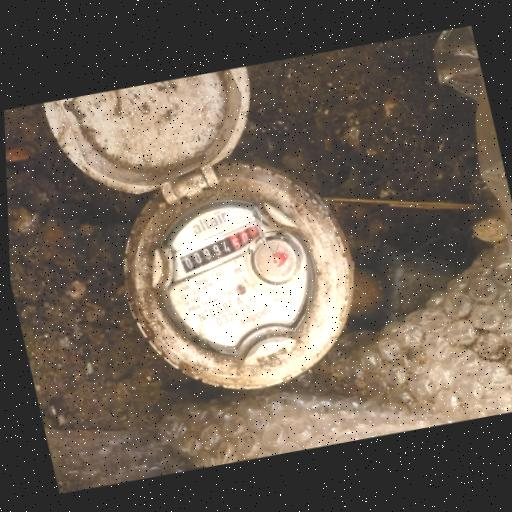0: (179, 253, 198, 275), (189, 248, 206, 269), (237, 228, 254, 248)
3: (245, 224, 263, 241)
4: (217, 236, 237, 257)
5: (228, 232, 244, 252)
9: (207, 239, 226, 261), (197, 245, 215, 265)
border_water_meter_number: (170, 217, 275, 281)
